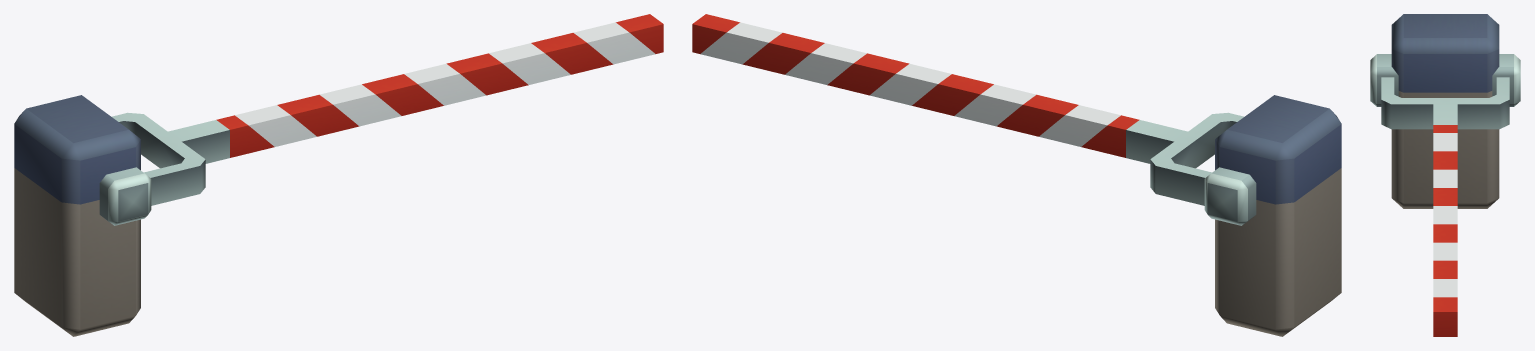
File: boom_gate.fbx
The picture shows the model from 3 angles, left to right: view 1: azimuth 30°, elevation 25°; view 2: azimuth 150°, elevation 25°; view 3: azimuth 270°, elevation 25°; orthographic projection. The views are drawn at different scales.
Visible parts, largest first — view 1: boom_gate_beam, boom_gate; view 2: boom_gate_beam, boom_gate; view 3: boom_gate, boom_gate_beam.
Boxes of the visible parts, x1,y1,x2,y2 form: boom_gate_beam: (99,14,663,225); boom_gate: (14,95,140,336); boom_gate_beam: (692,14,1256,225); boom_gate: (1215,95,1341,336); boom_gate: (1391,14,1499,208); boom_gate_beam: (1370,54,1520,336).
Size of the model in its own units: 585 by 175 by 139.
